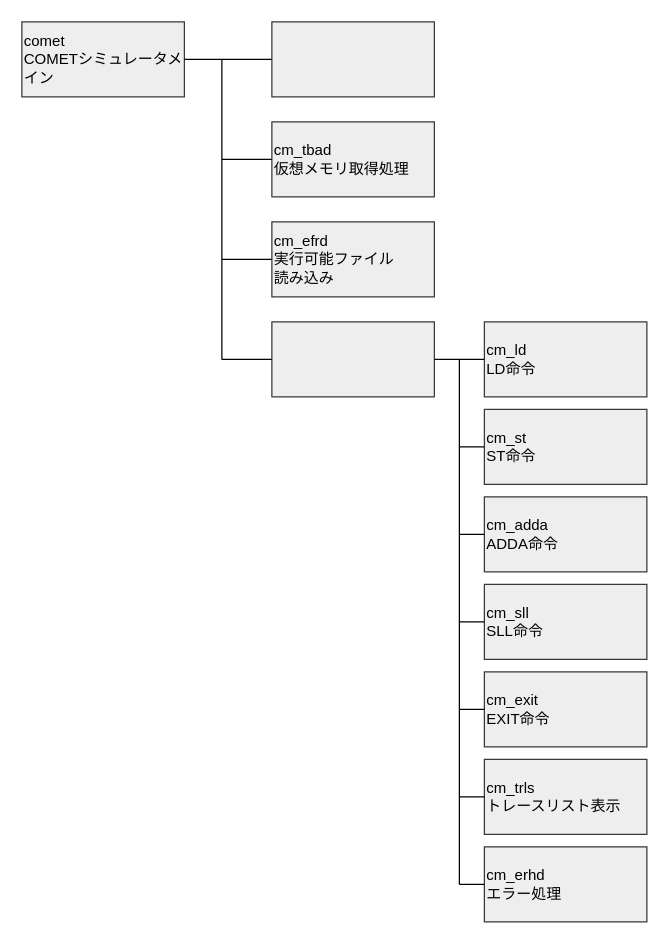
This 669x944 diagram has some shape labels left out. Each missing label, with the box of its shape:
cm_pchk 起動パラメータ 解読処理: (271, 21, 434, 97)
cm_run オブジェクトコード 実行処理: (271, 321, 434, 397)
